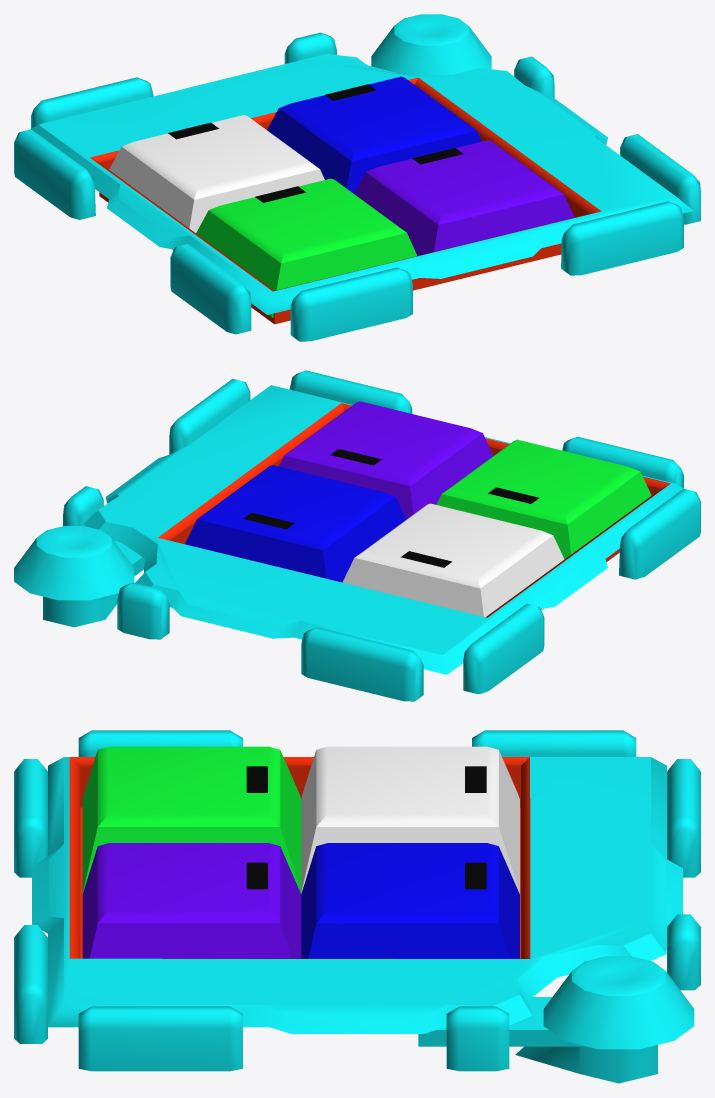
3 views of the same model, one above another, from view 1: azimuth 30°, elevation 25°; view 2: azimuth 150°, elevation 25°; view 3: azimuth 270°, elevation 25° (orthographic). The views are drawn at different scales.
Visible parts, largest first — view 1: PuzzleBackground, key.L, key.R, key.B, key.P, RecessedInner; view 2: PuzzleBackground, key.P, key.B, key.R, key.L, RecessedInner; view 3: PuzzleBackground, key.L, key.P, key.R, key.B, RecessedInner, LED.P, LED.L, LED.B, LED.R.
Boxes of the visible parts, x1,y1,x2,y2 form: PuzzleBackground: (14, 14, 700, 341); key.L: (354, 140, 574, 255); key.R: (196, 178, 417, 317); key.B: (109, 115, 324, 232); key.P: (267, 76, 481, 193); RecessedInner: (90, 77, 601, 324); PuzzleBackground: (14, 370, 700, 701); key.P: (185, 465, 406, 582); key.B: (342, 503, 564, 617); key.R: (436, 439, 651, 559); key.L: (279, 401, 493, 519); RecessedInner: (158, 403, 670, 617); PuzzleBackground: (14, 730, 700, 1083); key.L: (82, 843, 301, 958); key.P: (301, 843, 519, 958); key.R: (82, 746, 301, 893); key.B: (301, 746, 519, 893); RecessedInner: (69, 757, 530, 958); LED.P: (465, 862, 486, 889); LED.L: (246, 862, 267, 889); LED.B: (465, 766, 486, 792); LED.R: (246, 766, 267, 792).
Size of the model in its own units: 200 by 33.44 by 200.
